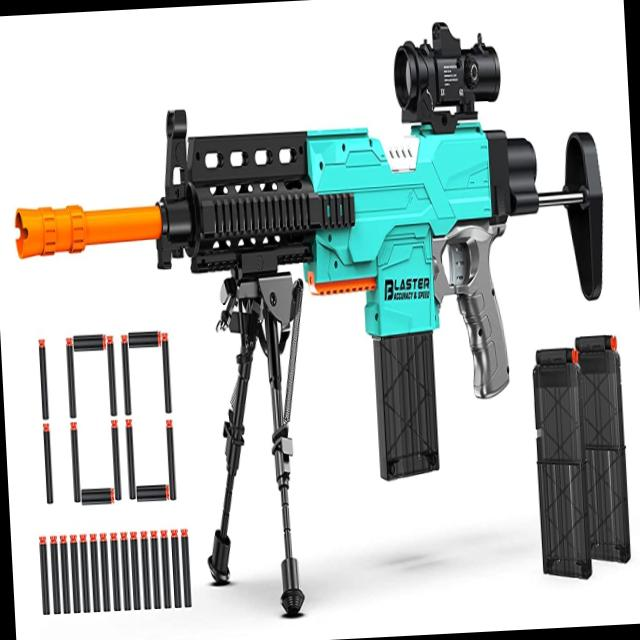Weapon: (2, 5, 637, 632)
